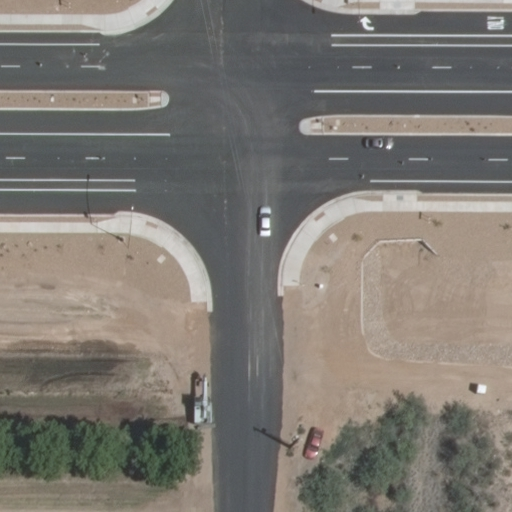DT: (283, 430, 308, 460)
